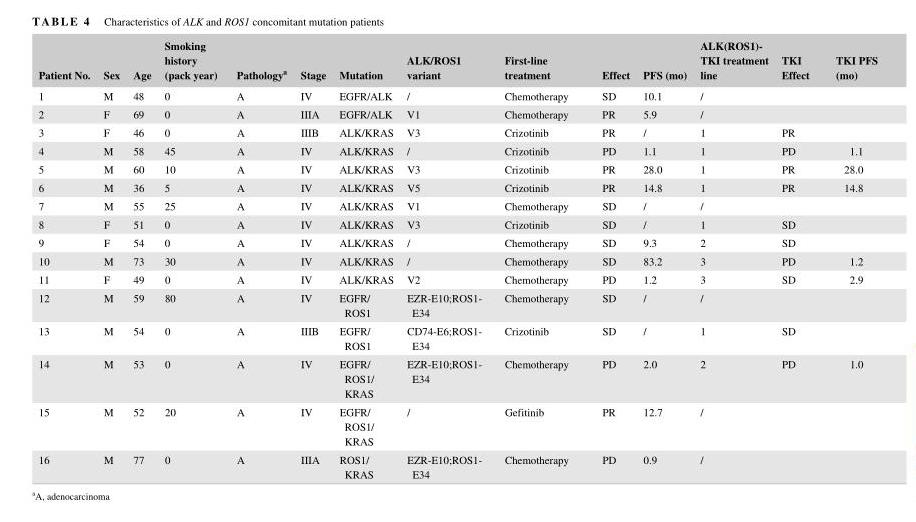table: (38, 37, 878, 482)
table column: (400, 37, 493, 482), (493, 37, 585, 482), (693, 37, 775, 482), (158, 37, 227, 482), (332, 37, 400, 482), (227, 37, 293, 482), (38, 37, 97, 482), (636, 37, 693, 482), (822, 37, 878, 482), (585, 37, 636, 482), (775, 37, 822, 482), (293, 37, 332, 482), (126, 37, 158, 482), (97, 37, 126, 482)
table column header: (38, 37, 878, 86)
table row: (38, 37, 878, 86), (38, 355, 878, 403), (38, 403, 878, 450), (38, 289, 878, 322), (38, 322, 878, 355), (38, 450, 878, 482), (38, 86, 878, 105), (38, 123, 878, 142), (38, 178, 878, 197), (38, 215, 878, 234), (38, 270, 878, 289), (38, 105, 878, 123), (38, 142, 878, 160), (38, 160, 878, 178), (38, 197, 878, 215), (38, 234, 878, 252), (38, 252, 878, 270)
